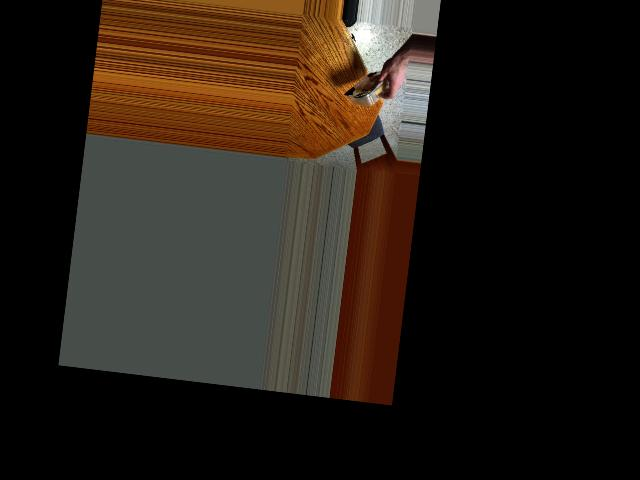cheese: (345, 53, 394, 117)
